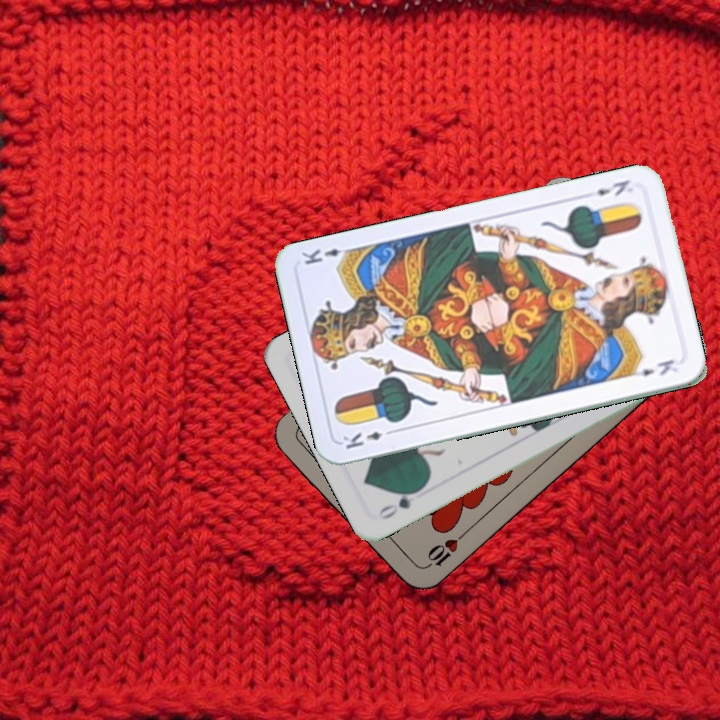EK: (338, 425, 398, 452), (592, 175, 636, 199)
GO: (374, 483, 426, 522)
H10: (419, 528, 468, 572)
